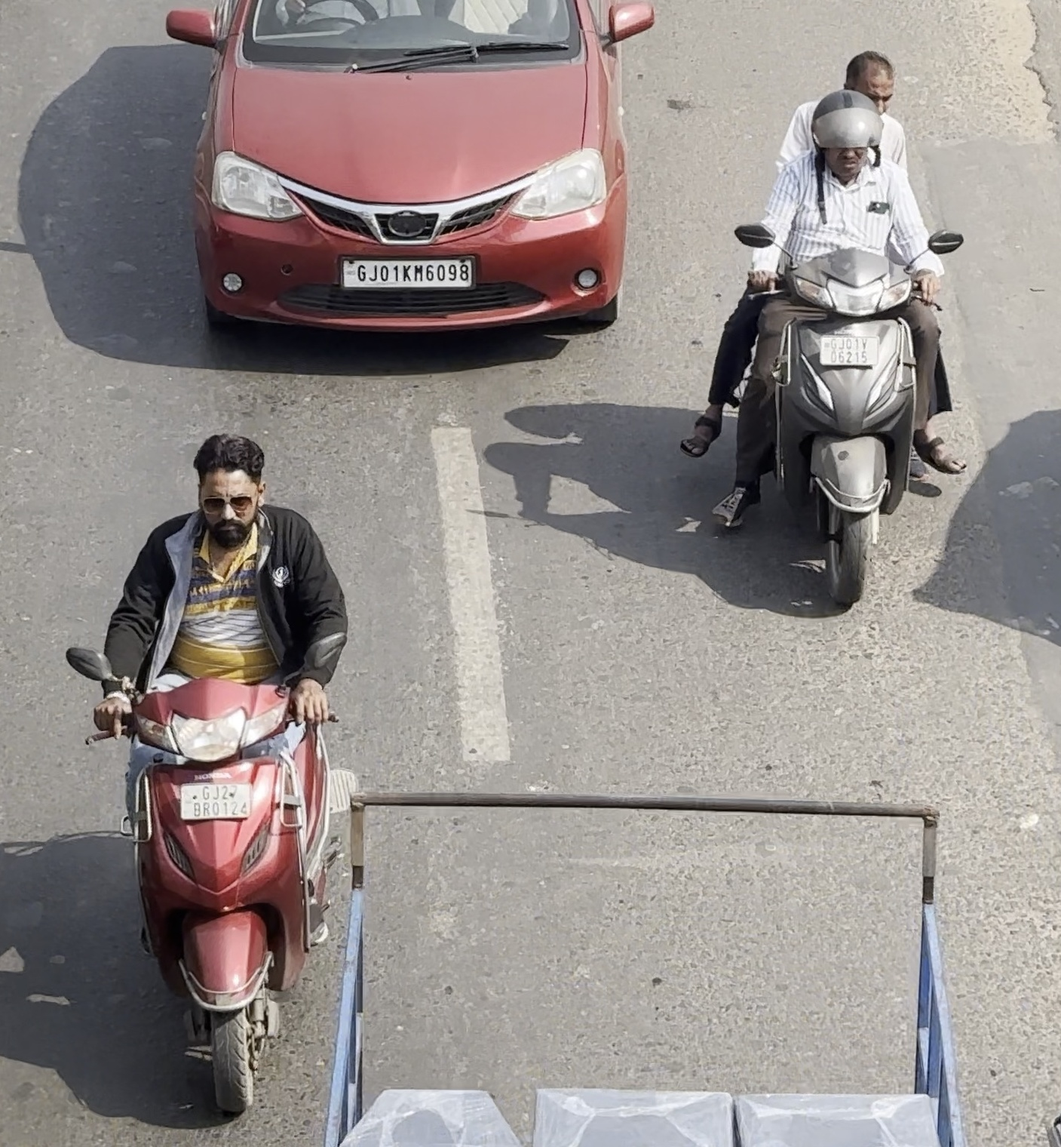BikeWithRider: (54, 422, 374, 1123), (673, 42, 982, 616)
Helmet: (800, 84, 891, 188)
NoHelmet: (180, 425, 277, 550), (835, 45, 906, 121)
